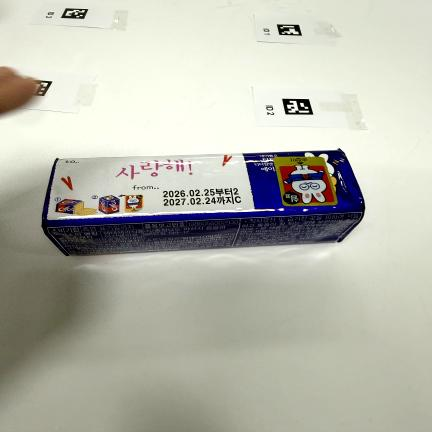cracker_ace: (42, 149, 365, 256)
